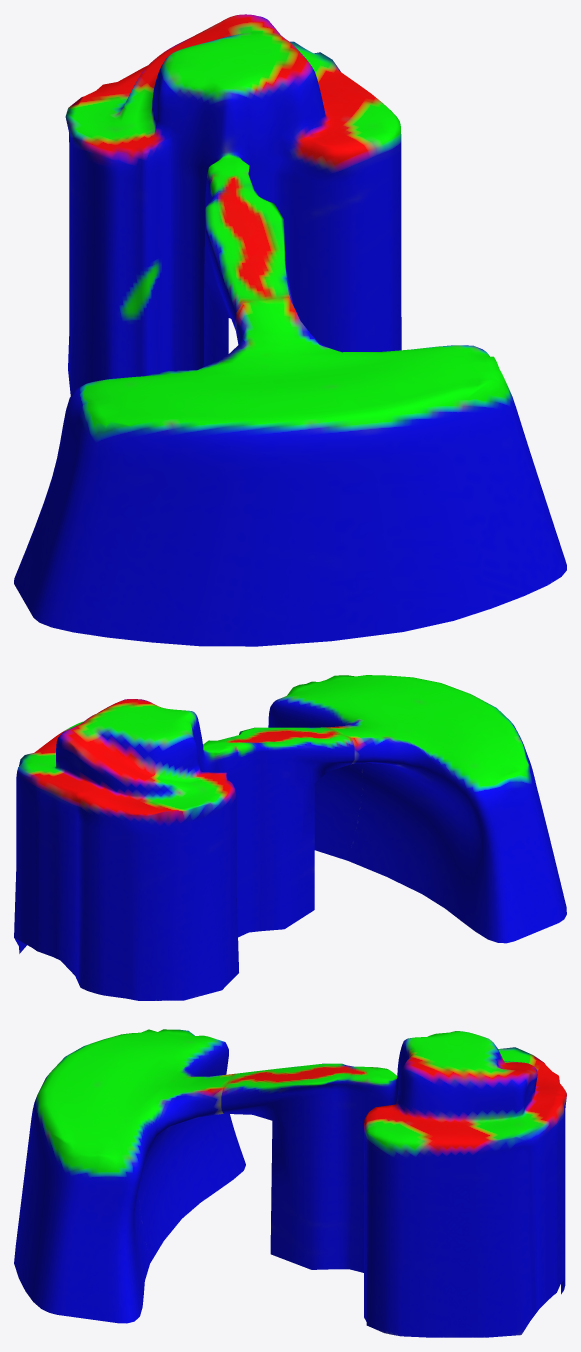
The model's file is TwinPeakTerrainShape.dae.
The picture shows the model from 3 angles, top to bottom: view 1: azimuth 30°, elevation 25°; view 2: azimuth 150°, elevation 25°; view 3: azimuth 270°, elevation 25°; orthographic projection. The views are drawn at different scales.
Visible parts, largest first — view 1: TwinPeakTerrain; view 2: TwinPeakTerrain; view 3: TwinPeakTerrain.
Part boxes in pixels (bbox=[...]): TwinPeakTerrain: bbox=[14, 14, 566, 646]; TwinPeakTerrain: bbox=[14, 675, 566, 1000]; TwinPeakTerrain: bbox=[14, 1029, 566, 1337].
Size of the model in its own units: 628 by 375 by 777.
